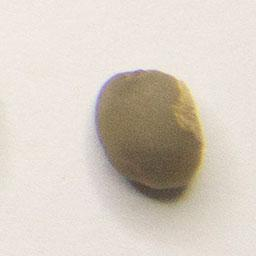peaberry: (90, 65, 209, 195)
